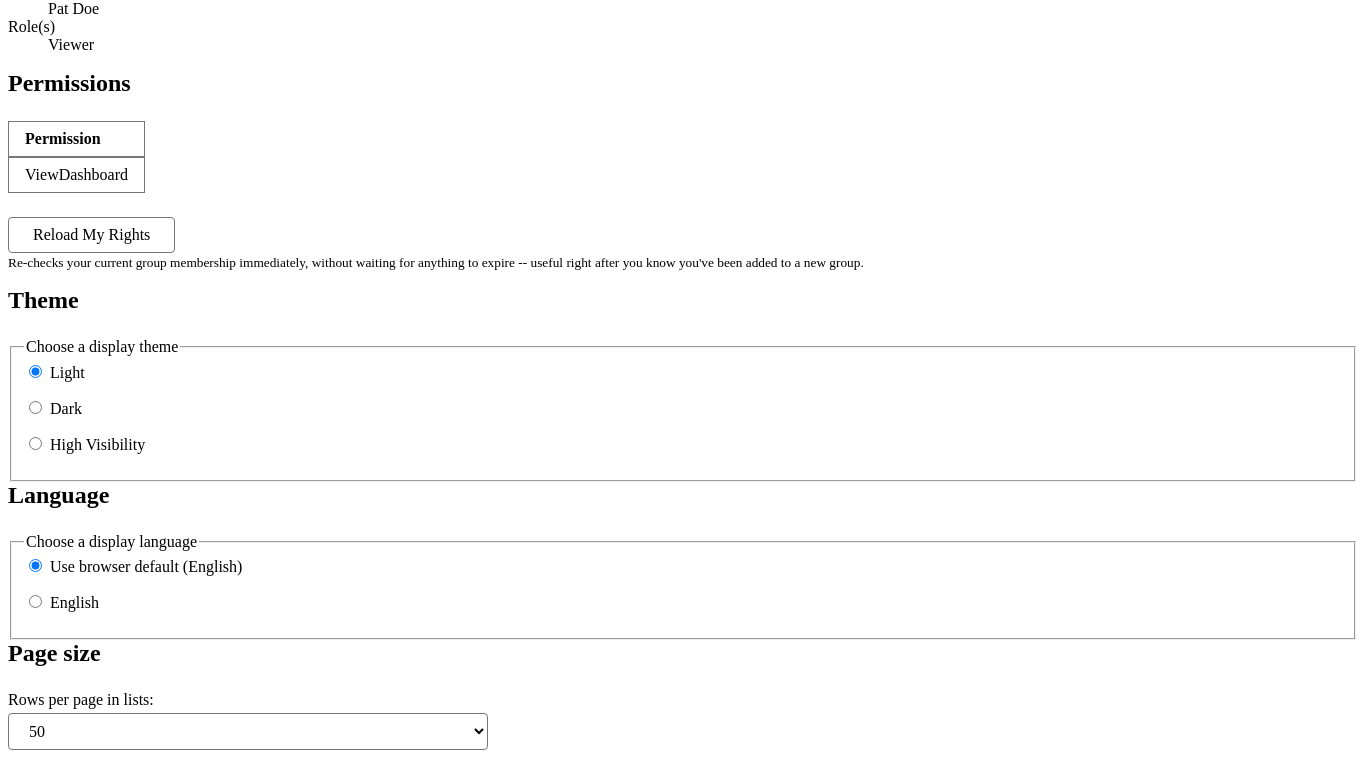
Test: MyProfile › sets the page size from the profile
(page scrolled)
Select "100" in the dropdown labelled "Rows per page in lists:" at (248, 732), box left=8, top=713, right=488, bottom=750
(page scrolled)
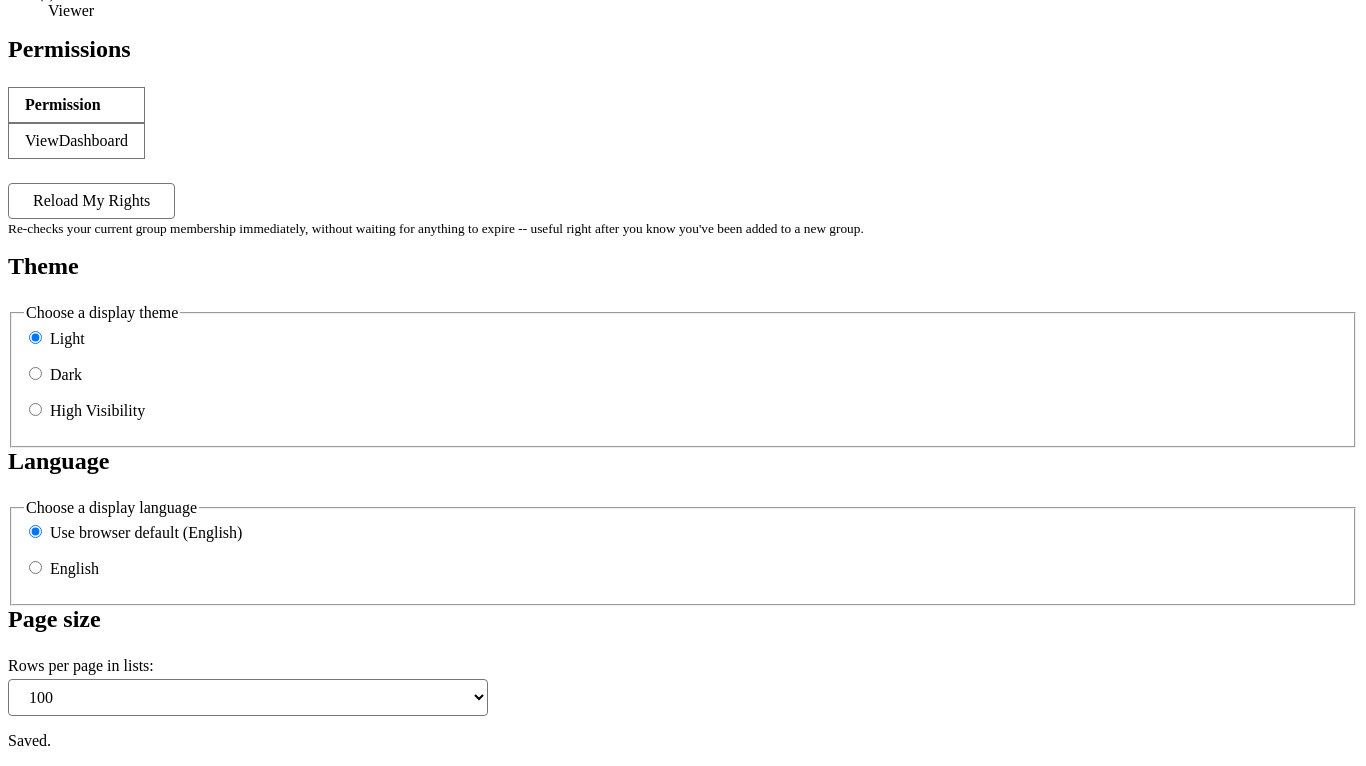
expect the message "Saved." is shown: met, box left=8, top=732, right=51, bottom=749
